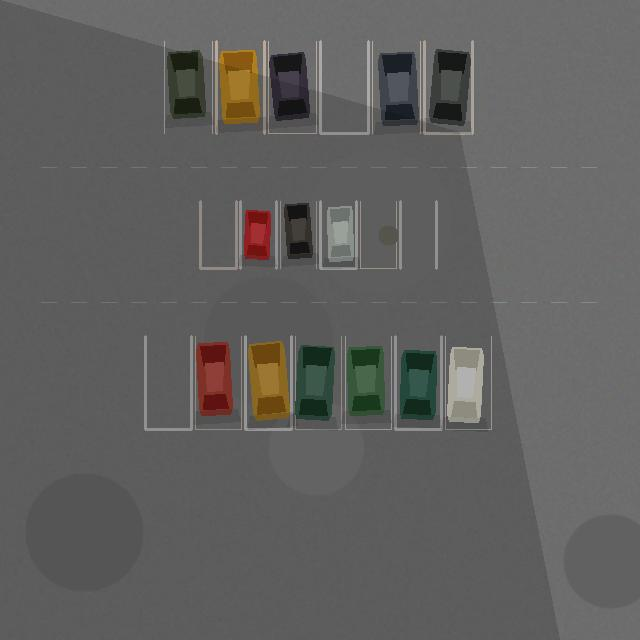space-empty: (320, 41, 368, 133), (145, 336, 191, 429), (200, 201, 236, 268), (360, 201, 396, 268), (400, 201, 436, 268)
space-occupied: (164, 41, 212, 133), (216, 41, 264, 133), (268, 41, 316, 133), (372, 41, 420, 133), (424, 41, 472, 133), (195, 336, 241, 429), (245, 336, 291, 429), (295, 336, 341, 429), (345, 336, 391, 429), (395, 336, 441, 429), (445, 336, 491, 429), (240, 201, 276, 268), (280, 201, 316, 268), (320, 201, 356, 268)
